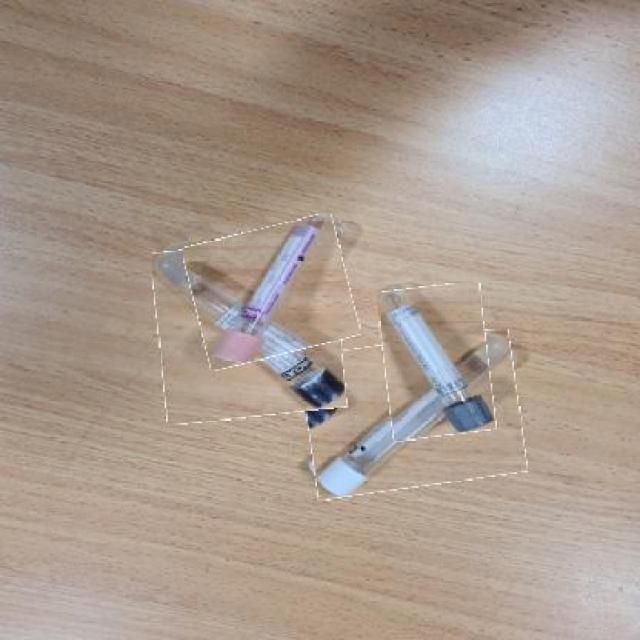Experimental-tube: (303, 335, 523, 493), (154, 238, 343, 420), (188, 220, 354, 362), (381, 284, 492, 438)
